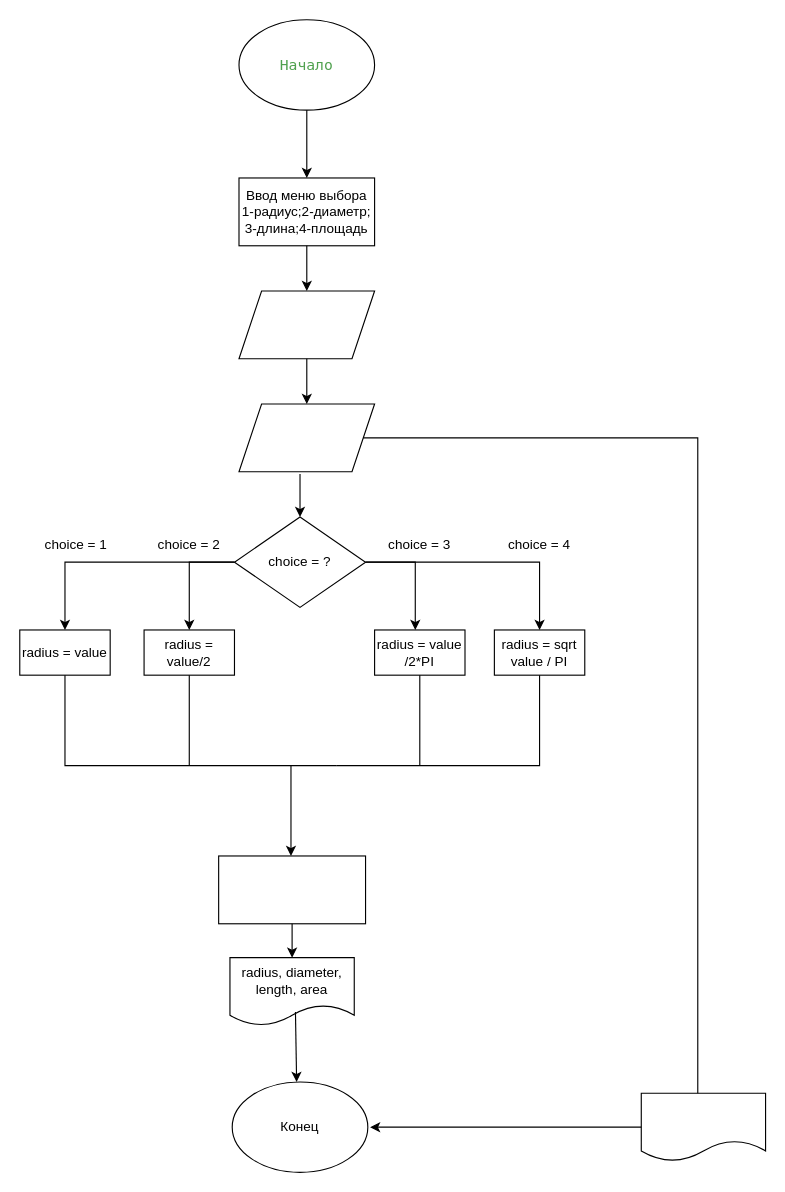
The diagram is 785 pixels wide and 1192 high, and some of its shapes have lost their labels. Each missing label, with the centre of its shape:
"Ошибка ввода": the point at 703,1126
Ввод choice: the point at 306,324
Ввод value: the point at 306,437
Вычисление diameter, length, area: the point at 292,889
